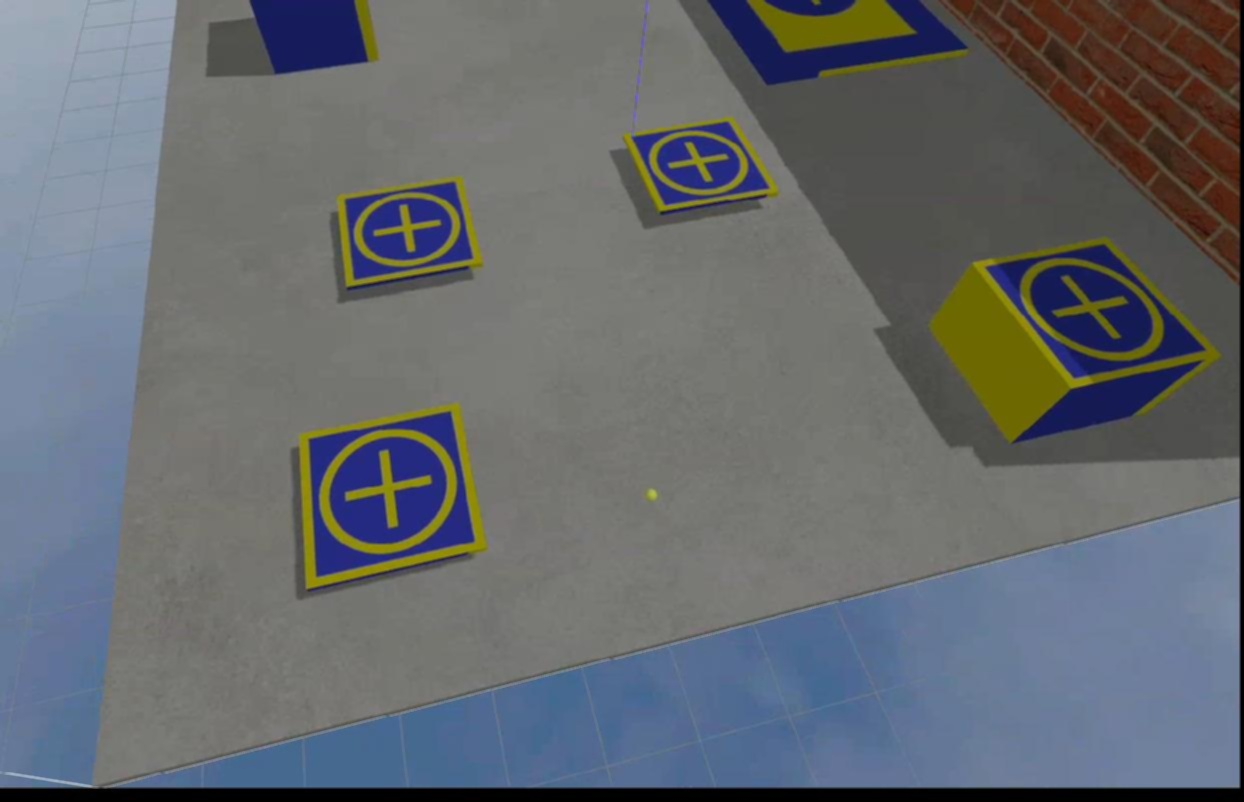large_base: (712, 1, 974, 82)
small_base: (966, 238, 1224, 400), (297, 405, 483, 594), (336, 180, 485, 292), (631, 125, 779, 214)
